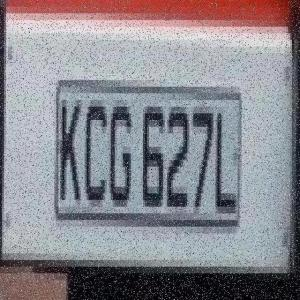Plate: (46, 54, 245, 245)
